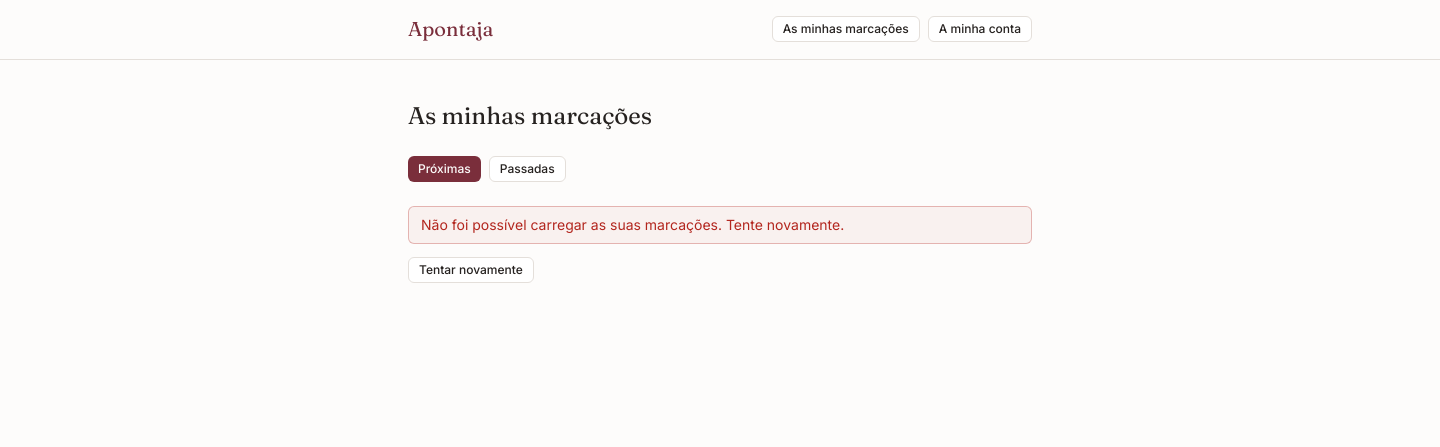
Test: MyAppointmentsView (portail client) › signale un échec de chargement et permet de réessayer
The image size is (1440, 447).
Click the button "Tentar novamente": {"x": 471, "y": 270} [408,257,534,283]
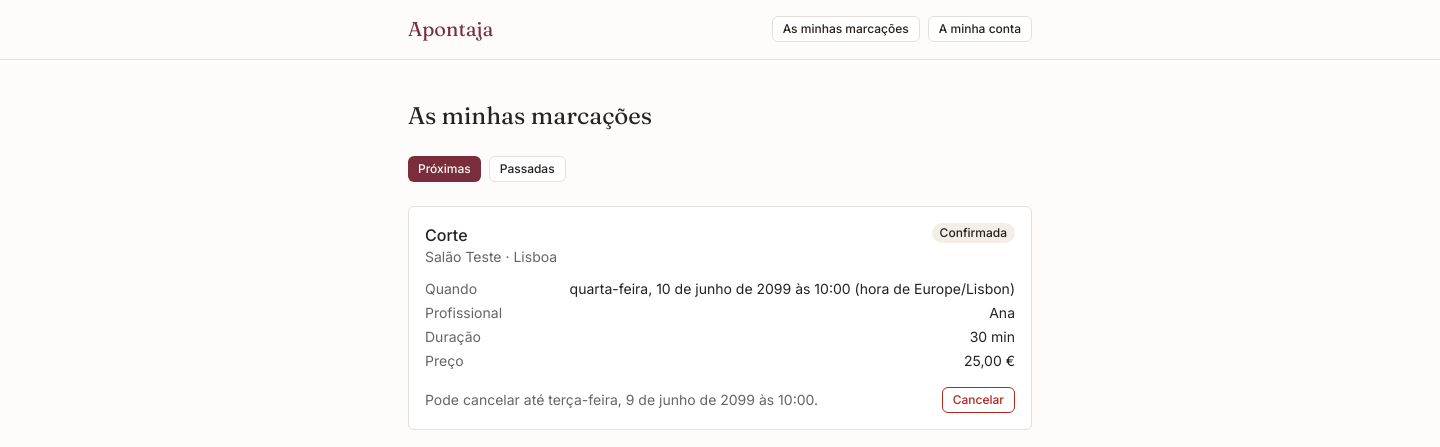
Result: the text "Corte" is shown at [425,225,468,245]
